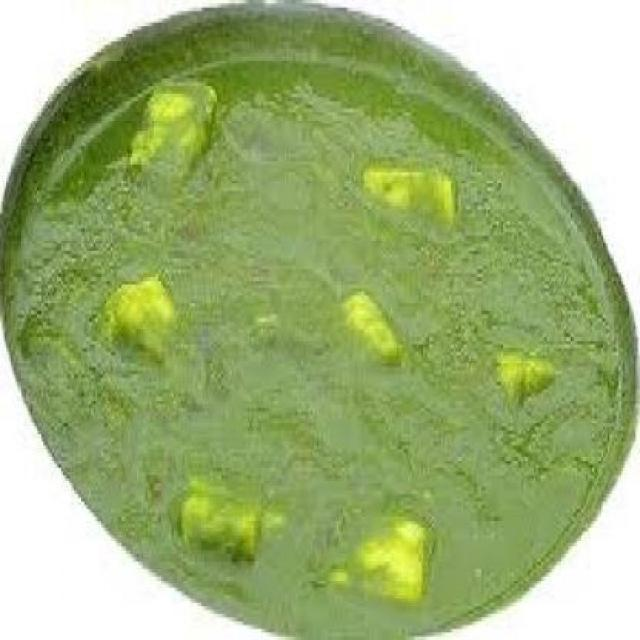palak_paneer: (3, 52, 625, 640)
